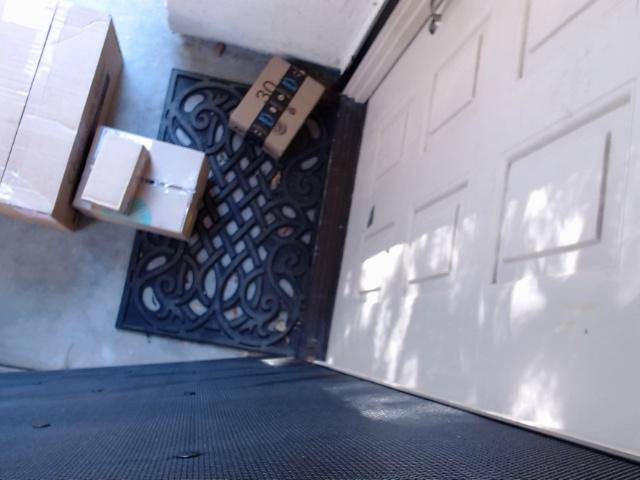box: (0, 0, 141, 243), (76, 115, 222, 257), (225, 39, 352, 180), (78, 135, 166, 223)
